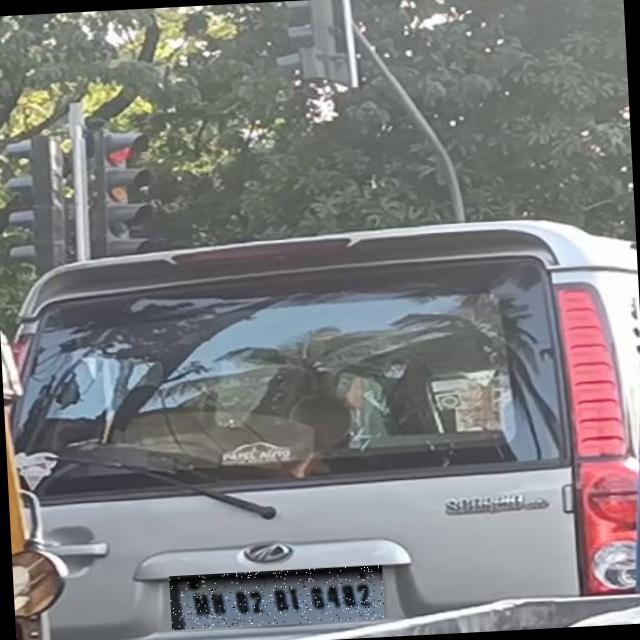Plate: (170, 566, 386, 631)
